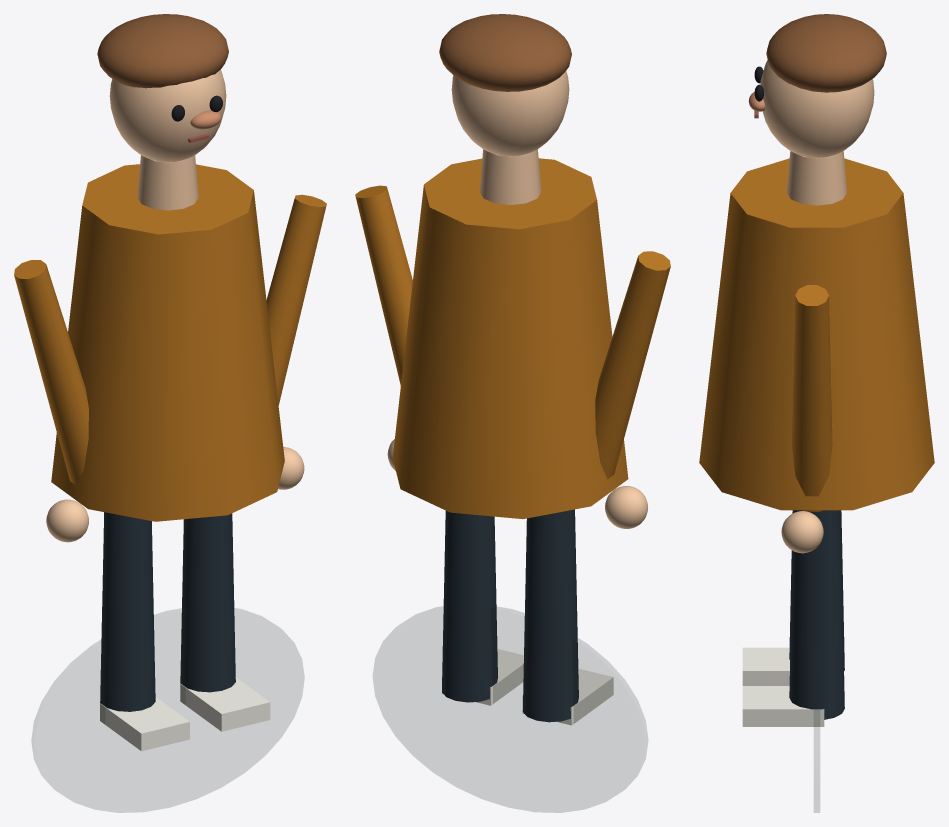
The model's file is customer_04.glb.
The picture shows the model from 3 angles, left to right: view 1: azimuth 30°, elevation 25°; view 2: azimuth 150°, elevation 25°; view 3: azimuth 270°, elevation 25°; orthographic projection. The views are drawn at different scales.
Parts seen in each view (by area): view 1: torso, contact_shadow, leg_-0.095, leg_0.095, hair_cap, arm_-0.255, head, arm_0.255, shoe_0.095, shoe_-0.095, neck, hand_-0.255 (+1 smaller); view 2: torso, contact_shadow, leg_-0.095, leg_0.095, hair_cap, arm_-0.255, head, arm_0.255, neck, shoe_-0.095, hand_-0.255, shoe_0.095; view 3: torso, leg_0.095, arm_0.255, hair_cap, head, neck, shoe_0.095, shoe_-0.095, hand_0.255, contact_shadow.
Boxes of the visible parts, x1=… form: torso: x1=51, y1=164, x2=284, y2=521; contact_shadow: x1=32, y1=608, x2=304, y2=812; leg_-0.095: x1=100, y1=512, x2=155, y2=711; leg_0.095: x1=180, y1=513, x2=235, y2=692; hair_cap: x1=97, y1=14, x2=228, y2=88; arm_-0.255: x1=14, y1=260, x2=88, y2=485; head: x1=109, y1=69, x2=226, y2=162; arm_0.255: x1=266, y1=194, x2=326, y2=405; shoe_0.095: x1=180, y1=677, x2=270, y2=731; shoe_-0.095: x1=100, y1=697, x2=189, y2=751; neck: x1=137, y1=155, x2=198, y2=210; hand_-0.255: x1=46, y1=499, x2=88, y2=542; torso: x1=392, y1=158, x2=628, y2=518; contact_shadow: x1=373, y1=606, x2=647, y2=812; leg_-0.095: x1=522, y1=509, x2=578, y2=722; leg_0.095: x1=442, y1=511, x2=497, y2=702; hair_cap: x1=439, y1=14, x2=571, y2=91; arm_-0.255: x1=595, y1=251, x2=670, y2=479; head: x1=451, y1=71, x2=569, y2=156; arm_0.255: x1=355, y1=185, x2=412, y2=385; neck: x1=479, y1=149, x2=541, y2=204; shoe_-0.095: x1=522, y1=668, x2=613, y2=725; hand_-0.255: x1=605, y1=486, x2=647, y2=528; shoe_0.095: x1=442, y1=649, x2=523, y2=705; torso: x1=699, y1=158, x2=934, y2=510; leg_0.095: x1=789, y1=510, x2=844, y2=719; arm_0.255: x1=792, y1=285, x2=832, y2=511; hair_cap: x1=766, y1=14, x2=886, y2=92; head: x1=760, y1=60, x2=874, y2=157; neck: x1=787, y1=151, x2=846, y2=205; shoe_0.095: x1=742, y1=686, x2=824, y2=726; shoe_-0.095: x1=742, y1=647, x2=789, y2=685; hand_0.255: x1=781, y1=511, x2=823, y2=553; contact_shadow: x1=814, y1=643, x2=819, y2=812.
Bounding box in the file's own units: 0.7433 × 1.8 × 0.4998.
